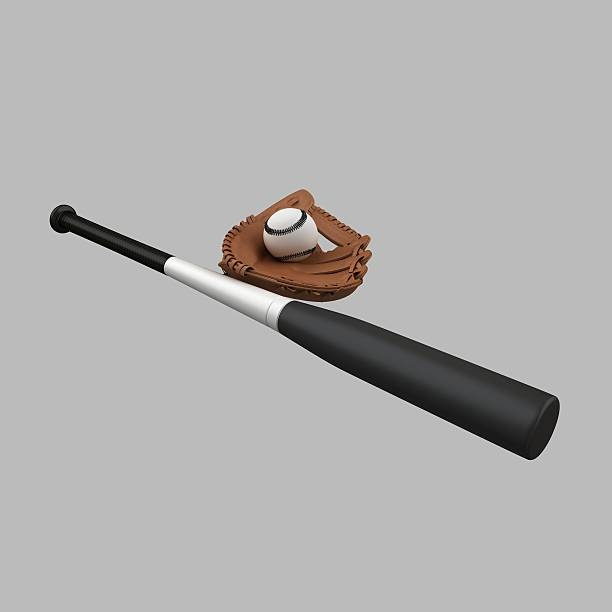bita: (54, 208, 549, 448)
